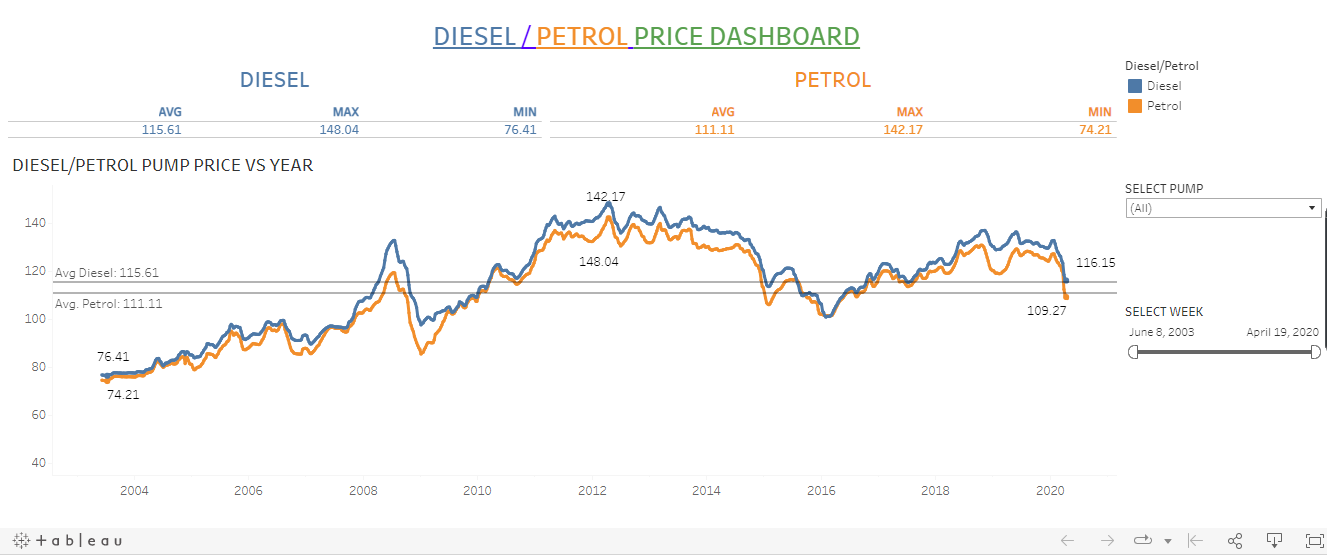

The dashboard page shown, as its layout file describes it:
{"tool":"tableau","page":{"name":"Dashboard 1","canvas":[1000,1000],"units":"permille","ordinal":0},"visuals":[{"type":"worksheet","title":"TITLE","mark":"Automatic","box":[7.1,13.5,958,87.7]},{"type":"worksheet","title":"DIESEL","mark":"Automatic","box":[7.1,101.2,403.6,168.9]},{"type":"worksheet","title":"PETROL","mark":"Automatic","box":[410.7,101.2,428.8,168.9]},{"type":"legend","title":"GRAPH","param":"[federated.0j39w5n1umqx3z1069rdy16s4efn].[none:Diesel/Petrol:nk]","box":[839.5,101.2,153.4,148.7]},{"type":"worksheet","title":"GRAPH","mark":"Automatic","rows":["Pump Price - Split 1"],"cols":["Date"],"box":[7.1,270.1,832.4,716.4]},{"type":"filter","title":"GRAPH","param":"[federated.0j39w5n1umqx3z1069rdy16s4efn].[none:Diesel/Petrol:nk]","box":[839.5,332.6,153.4,145.3]},{"type":"filter","title":"GRAPH","param":"[federated.0j39w5n1umqx3z1069rdy16s4efn].[twk:Date:qk]","box":[839.5,567.4,153.4,419.1]}]}

Visuals, with their boxes on the dashboard's canvas, which has no fixed pixel size, in thousandths of its width and height (x1, y1, x2, y2). These are canvas units, not pixel positions in the 1327x558 screenshot, which may show the page scaled, cropped or inside an application window:
"TITLE" worksheet: Rect(7, 14, 965, 101)
"DIESEL" worksheet: Rect(7, 101, 411, 270)
"PETROL" worksheet: Rect(411, 101, 840, 270)
"GRAPH" legend: Rect(840, 101, 993, 250)
"GRAPH" worksheet: Rect(7, 270, 840, 986)
"GRAPH" filter: Rect(840, 333, 993, 478)
"GRAPH" filter: Rect(840, 567, 993, 986)
